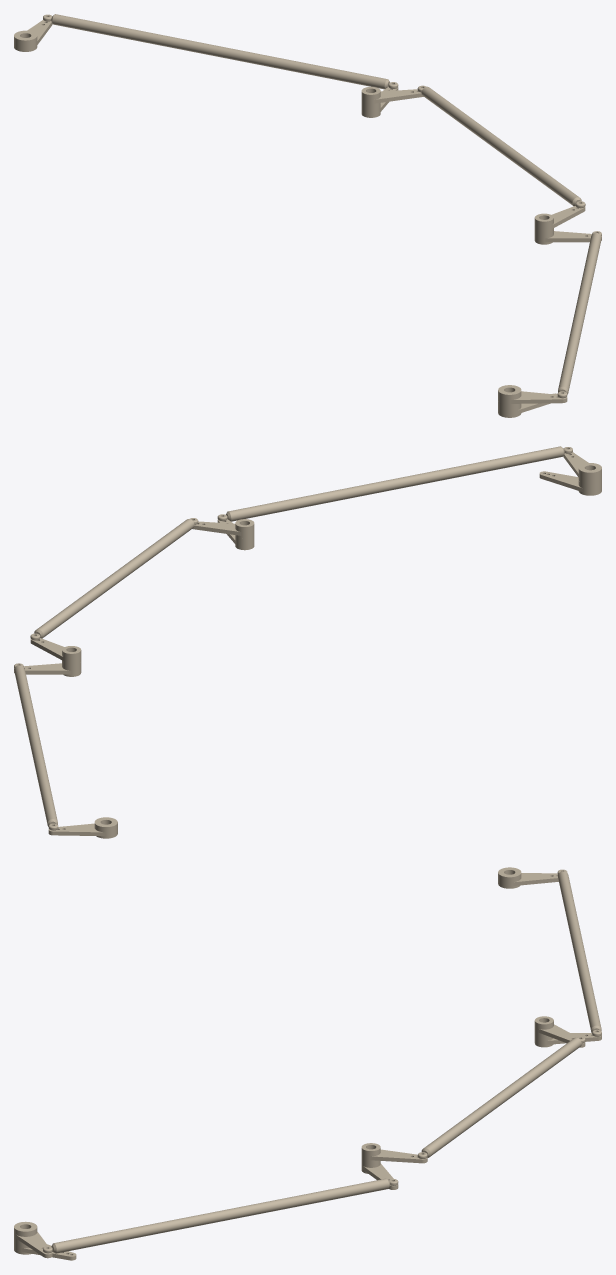
Rendered from CONTROL__STEERING__STEERING COMPONENTS__tillers & draglinks.glb.
The picture shows the model from 3 angles, top to bottom: view 1: azimuth 30°, elevation 25°; view 2: azimuth 150°, elevation 25°; view 3: azimuth 330°, elevation 25°; orthographic projection.
Visible parts, largest first — view 1: tillers & draglinks, Imported 15 (×2), Imported 20 (×2), Imported 23; view 2: tillers & draglinks, Imported 15 (×3), Imported 20 (×2), Imported 23; view 3: tillers & draglinks, Imported 15 (×2), Imported 20 (×2).
Part boxes in pixels (left/top/right/bottom): tillers & draglinks: left=51, top=14, right=601, bottom=394; Imported 15 (×2): left=14, top=20, right=567, bottom=406; Imported 20 (×2): left=361, top=87, right=585, bottom=233; Imported 23: left=534, top=229, right=601, bottom=244; tillers & draglinks: left=14, top=446, right=564, bottom=826; Imported 15 (×3): left=48, top=452, right=601, bottom=838; Imported 20 (×2): left=30, top=519, right=254, bottom=665; Imported 23: left=14, top=662, right=81, bottom=676; tillers & draglinks: left=51, top=871, right=601, bottom=1253; Imported 15 (×2): left=14, top=867, right=558, bottom=1258; Imported 20 (×2): left=361, top=1016, right=585, bottom=1163.
Size of the model in its own units: 1.36 by 0.1909 by 4.91.
